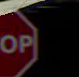Stop: (2, 3, 48, 74)
